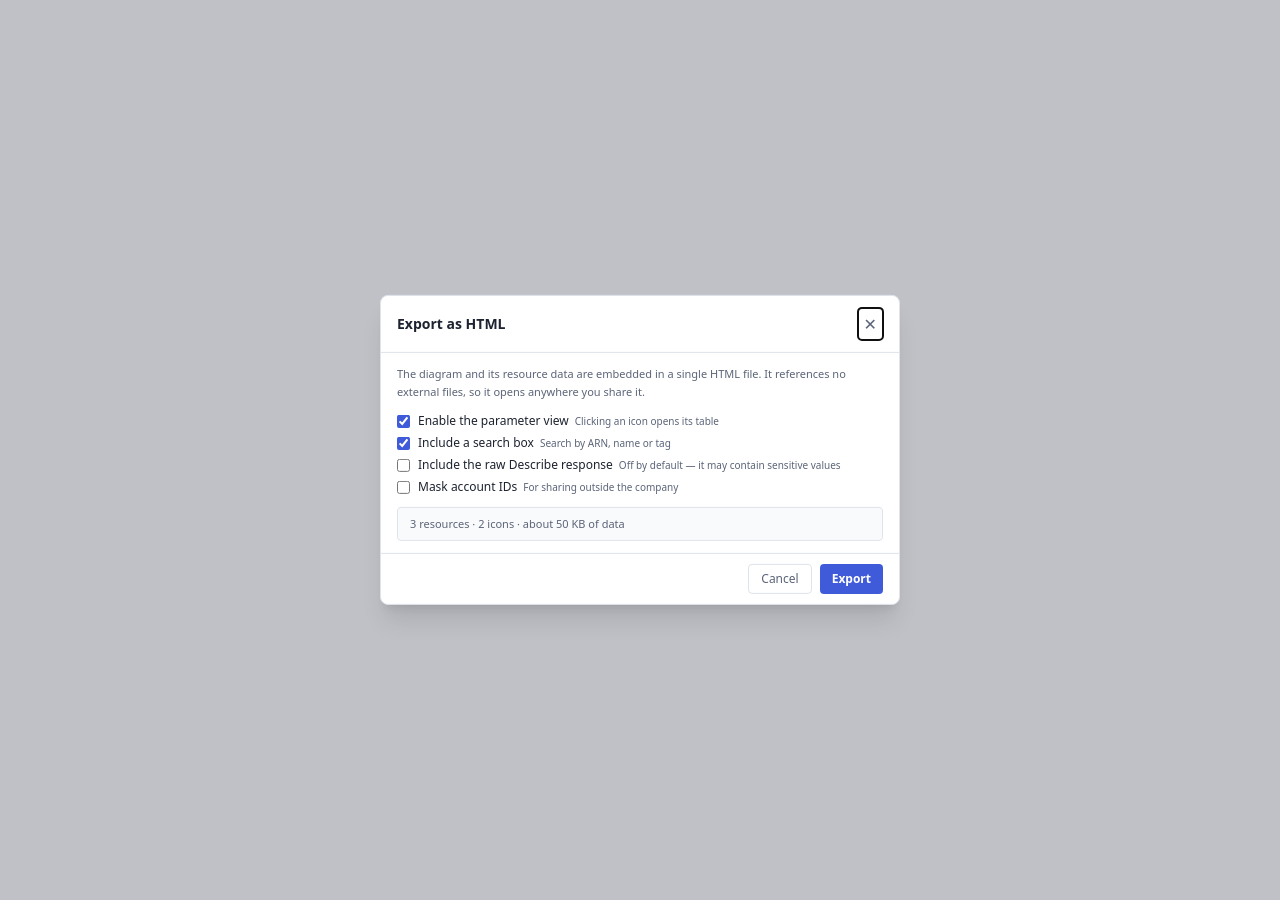
Test: the HTML export dialog › shows why it failed, such as the viewer not being built
This screenshot has width=1280, height=900.
Check: the text "3 resources · 2 icons · about 50 KB of data" is shown, box [410, 516, 625, 531]
Click the button "Export".
click(851, 579)  # box [820, 564, 883, 594]
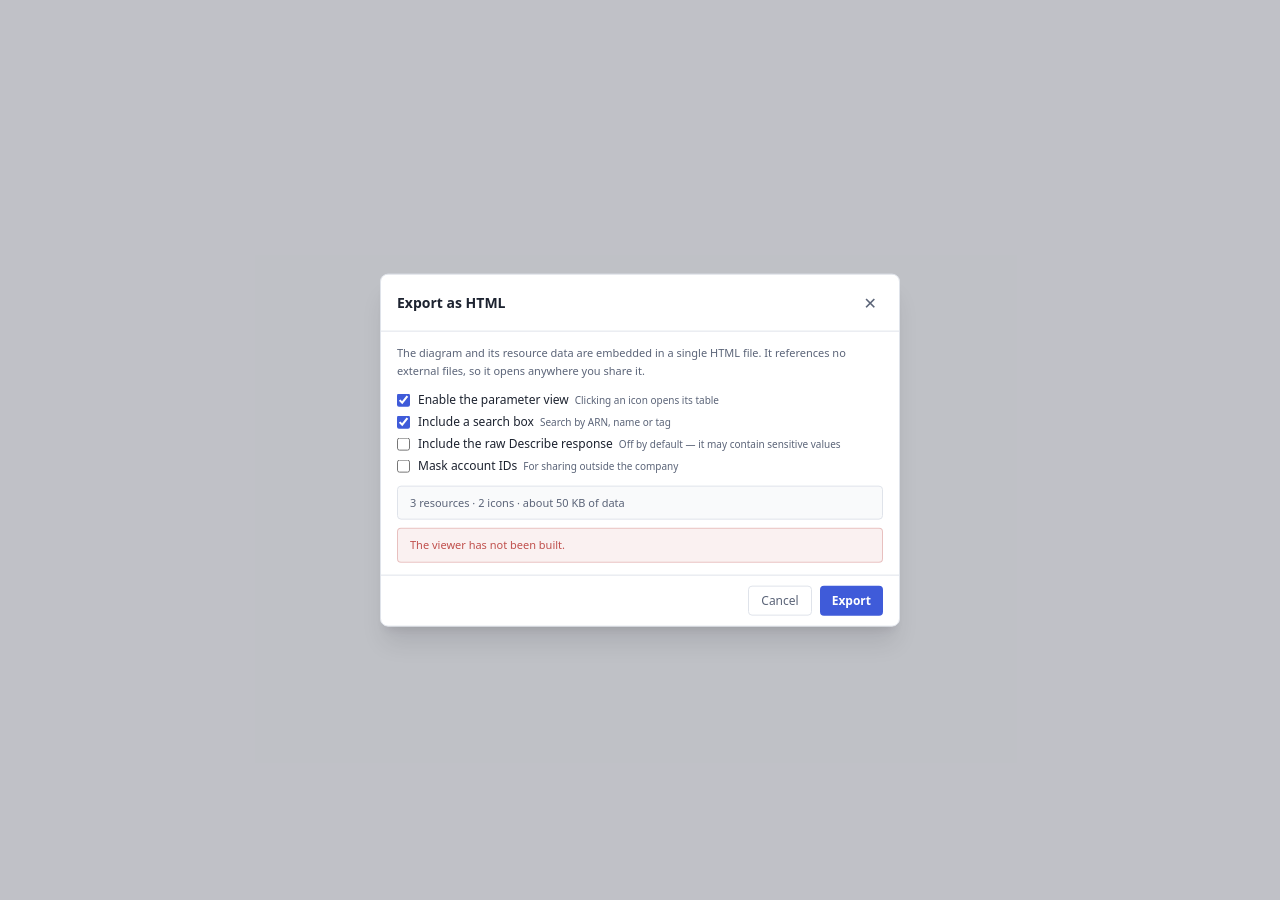
Check: the text "The viewer has not been built." is shown, box [397, 528, 883, 562]
